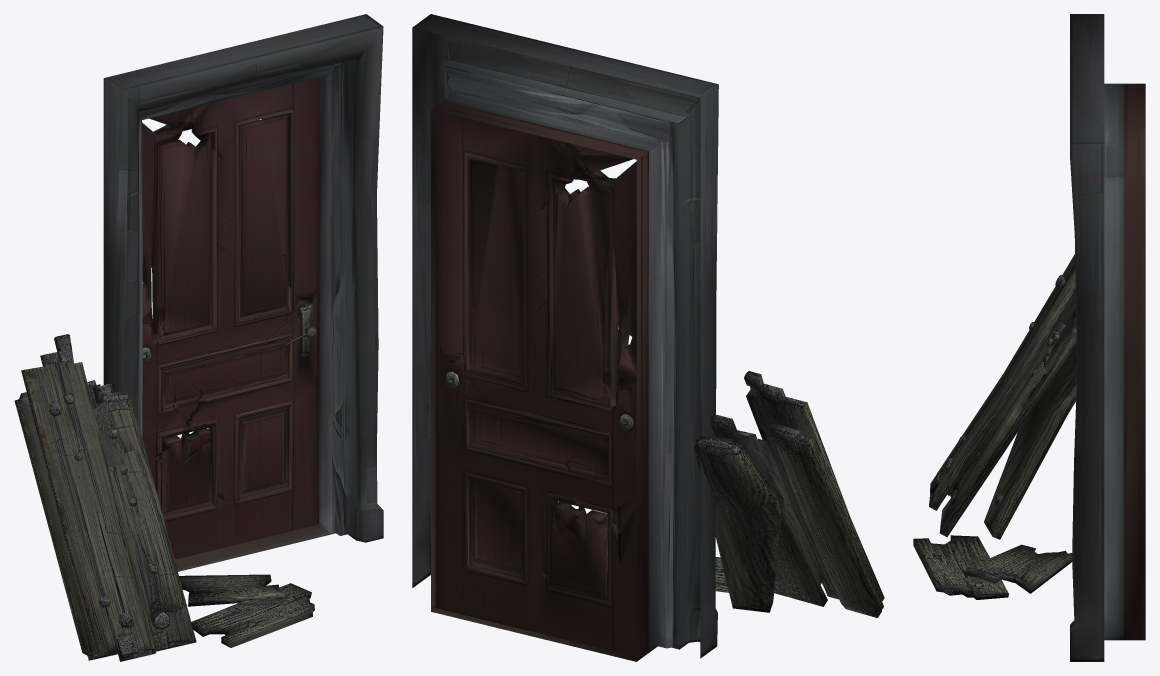
Rendered from pantry_door_cleared.glb.
3 views of the same model, side by side, from view 1: azimuth 30°, elevation 25°; view 2: azimuth 150°, elevation 25°; view 3: azimuth 270°, elevation 25° (orthographic). The views are drawn at different scales.
Visible parts, largest first — view 1: tripo_node_e9882801-d428-4e14-84d4-935d252813aa; view 2: tripo_node_e9882801-d428-4e14-84d4-935d252813aa; view 3: tripo_node_e9882801-d428-4e14-84d4-935d252813aa.
Part boxes in pixels (x1,y1,x2,y2): tripo_node_e9882801-d428-4e14-84d4-935d252813aa: [14, 14, 383, 661]; tripo_node_e9882801-d428-4e14-84d4-935d252813aa: [412, 14, 884, 661]; tripo_node_e9882801-d428-4e14-84d4-935d252813aa: [913, 14, 1145, 661].
Size of the model in its own units: 0.729 by 0.9995 by 0.4067.
Materials: 1 (1 with a texture image).
